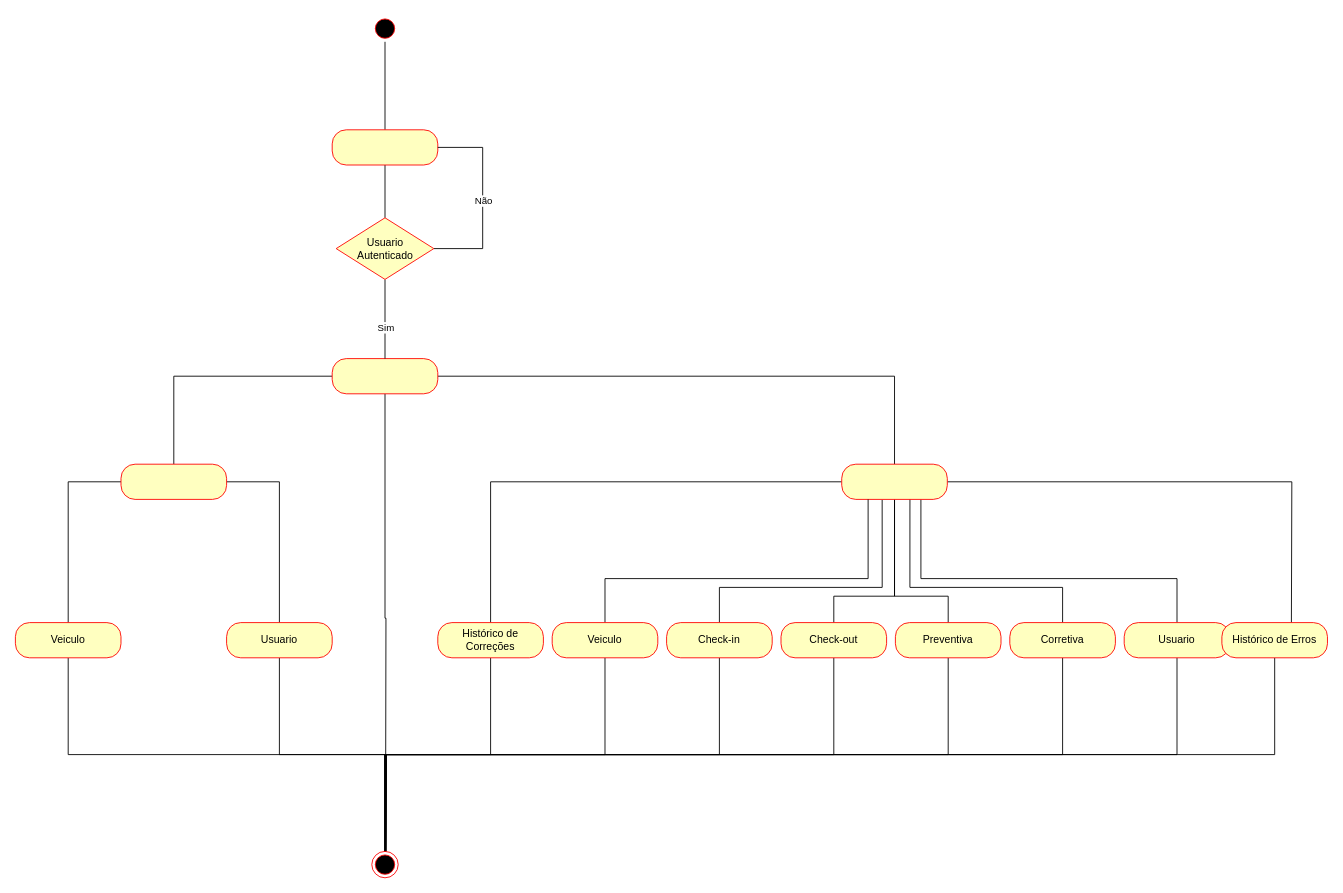
The diagram is 1343 pixels wide and 893 high, and some of its shapes have lost their labels. Each missing label, with the centre of its shape:
"Cadastrar" belongs at (x=173, y=481).
"Listar" belongs at (x=894, y=481).
"Login" belongs at (x=384, y=147).
"Painel Administrativo" belongs at (x=384, y=376).
